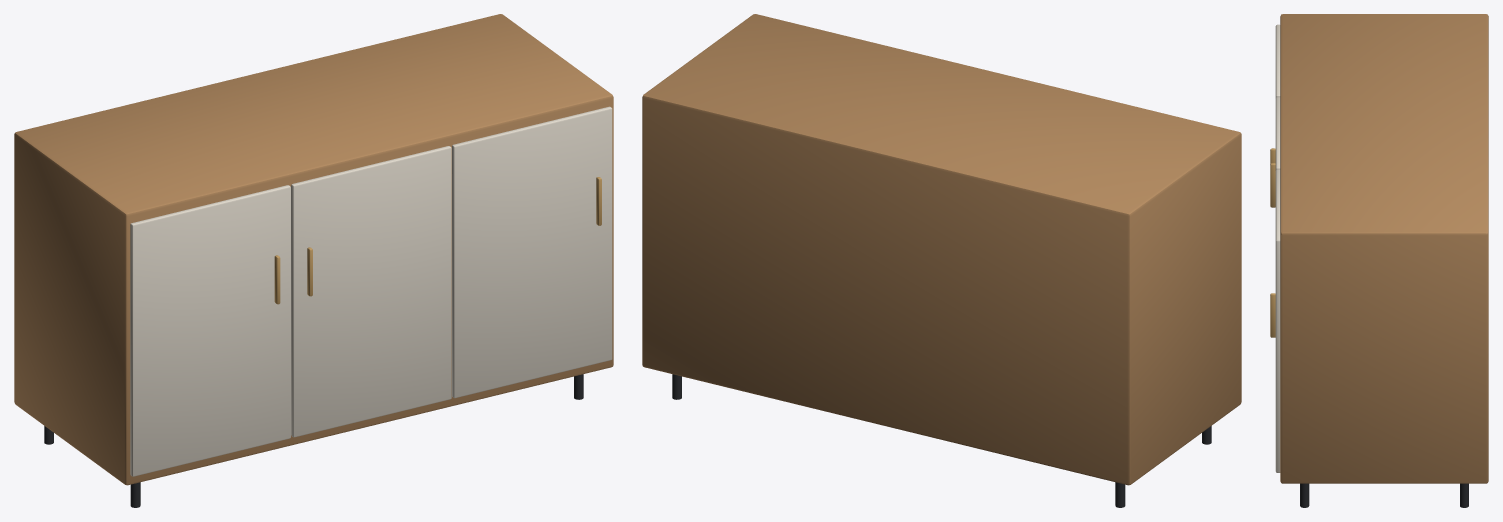
The model's file is cabinet_3.glb.
The picture shows the model from 3 angles, left to right: view 1: azimuth 30°, elevation 25°; view 2: azimuth 150°, elevation 25°; view 3: azimuth 270°, elevation 25°; orthographic projection. The views are drawn at different scales.
Visible parts, largest first — view 1: box, box.003, box.005, box.001; view 2: box; view 3: box, box.005, box.001, box.003, box.004, box.006.
Boxes of the visible parts, x1,y1,x2,y2 form: box: (14, 14, 613, 485); box.003: (291, 146, 451, 437); box.005: (452, 106, 612, 398); box.001: (130, 185, 290, 476); box: (642, 14, 1241, 485); box: (1280, 14, 1488, 483); box.005: (1275, 169, 1280, 472); box.001: (1275, 24, 1280, 98); box.003: (1275, 97, 1280, 170); box.004: (1270, 163, 1275, 207); box.006: (1270, 293, 1275, 337).
Size of the model in its own units: 150 by 90 by 62.9.
